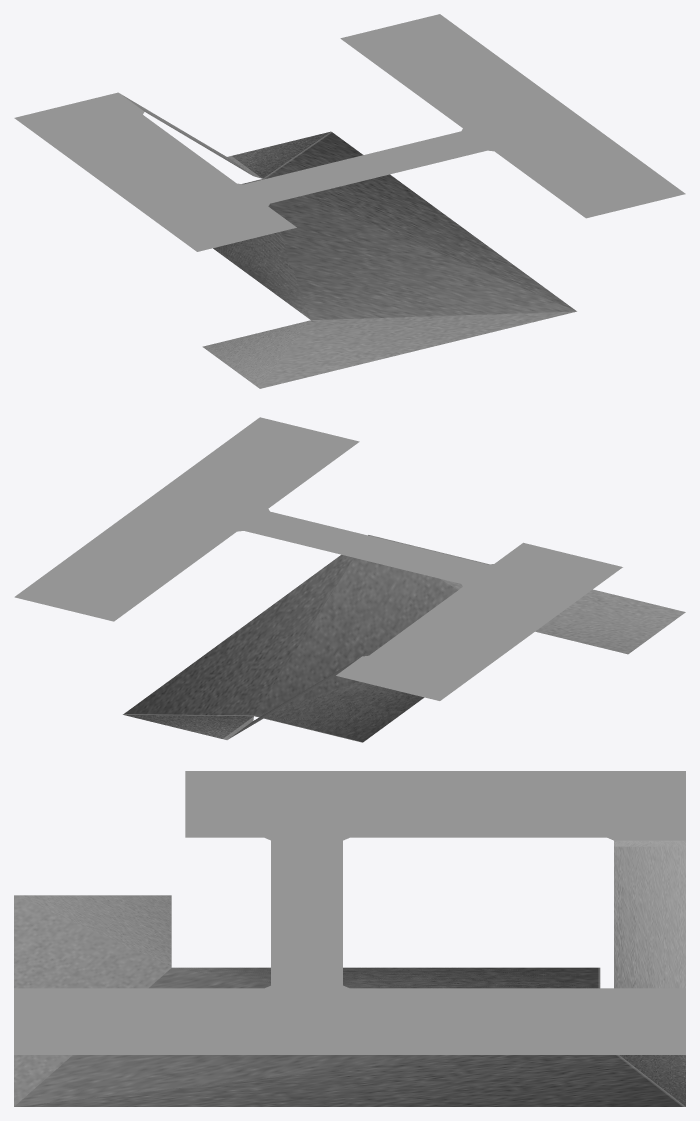
The model's file is level_navmesh.obj.
3 views of the same model, one above another, from view 1: azimuth 30°, elevation 25°; view 2: azimuth 150°, elevation 25°; view 3: azimuth 270°, elevation 25° (orthographic). The views are drawn at different scales.
Parts seen in each view (by area): view 1: Plane.001; view 2: Plane.001; view 3: Plane.001.
Part boxes in pixels (x1,y1,x2,y2): Plane.001: [14, 14, 685, 388]; Plane.001: [14, 417, 685, 742]; Plane.001: [14, 771, 685, 1106].
Size of the model in its own units: 19.6 by 4 by 19.6.
1 material, 1 textured.
